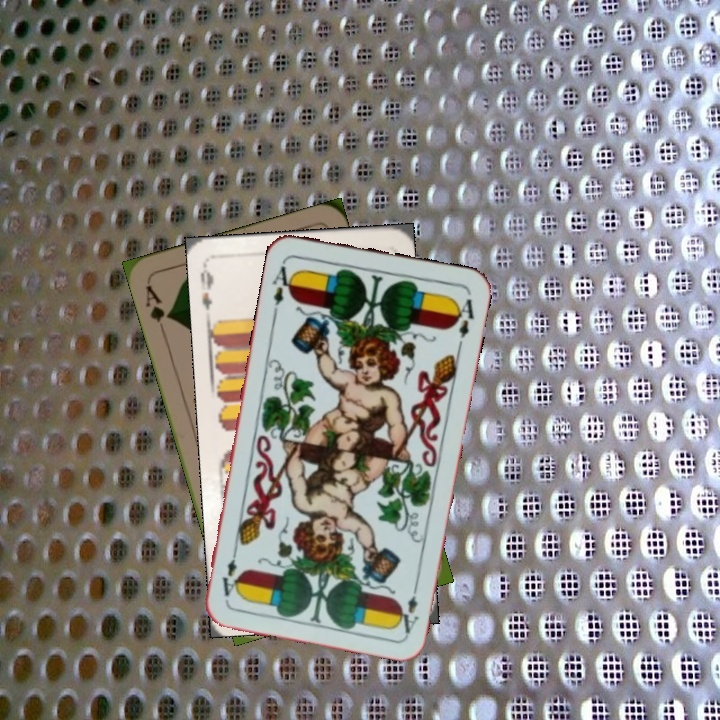E9: (196, 261, 216, 313)
EA: (268, 258, 298, 317), (393, 577, 422, 636)
GA: (141, 281, 174, 338)
